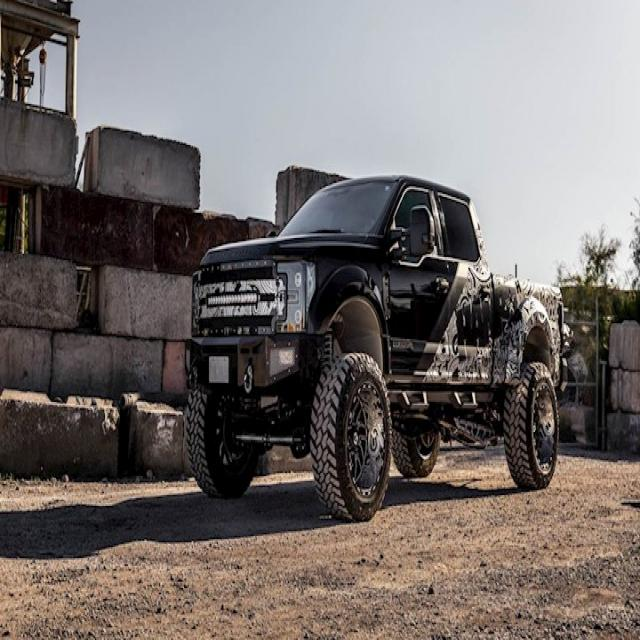truck: (181, 126, 569, 566)
